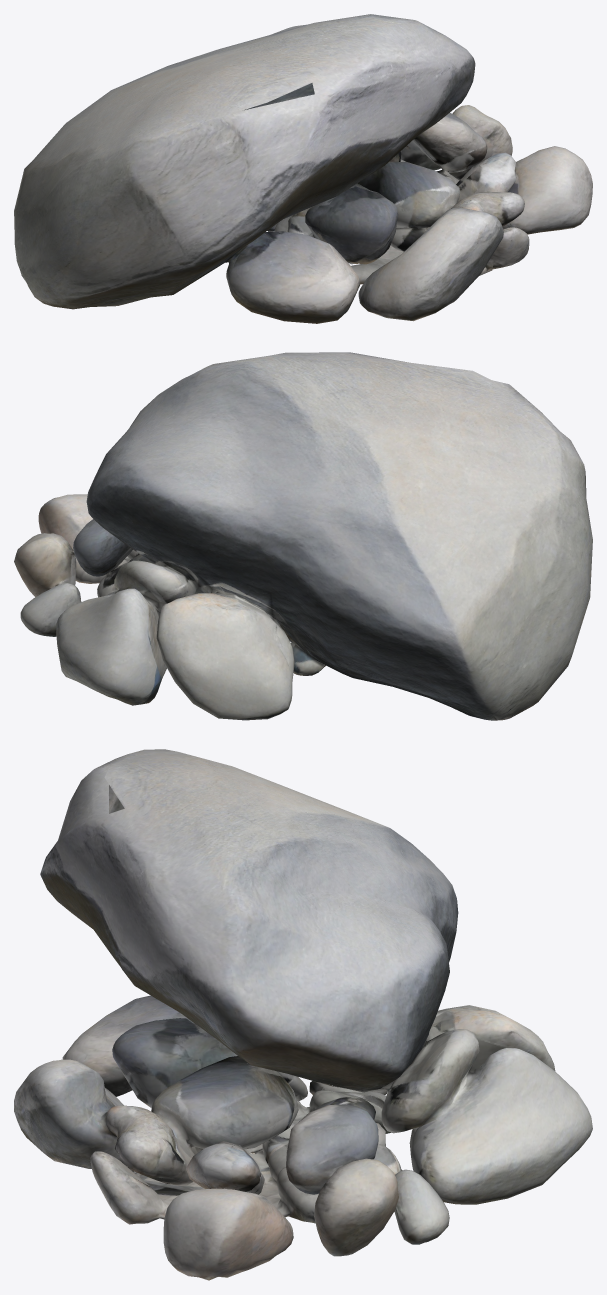
The model's file is Meshy_AI_Rocks_0220190015_texture.glb.
3 renders of one model, top to bottom at view 1: azimuth 30°, elevation 25°; view 2: azimuth 150°, elevation 25°; view 3: azimuth 270°, elevation 25°, orthographic. The views are drawn at different scales.
Size of the model in its own units: 1.99 by 0.8811 by 1.5.
1 material, 1 textured.
